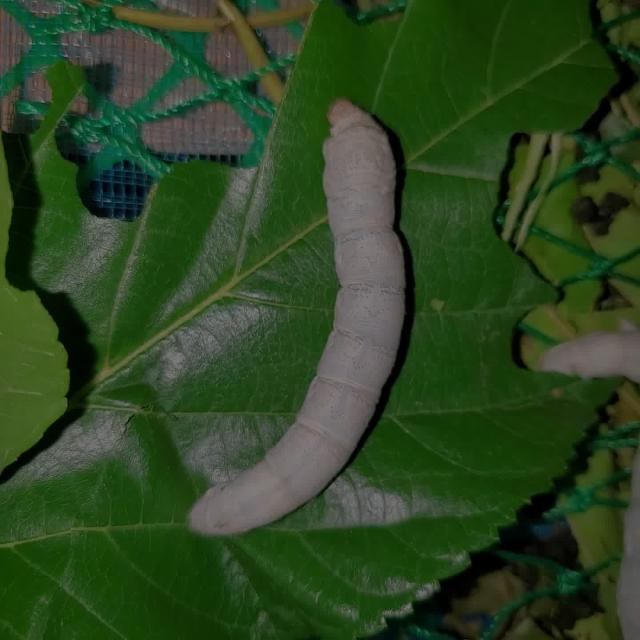Healthy: (174, 93, 442, 548)
